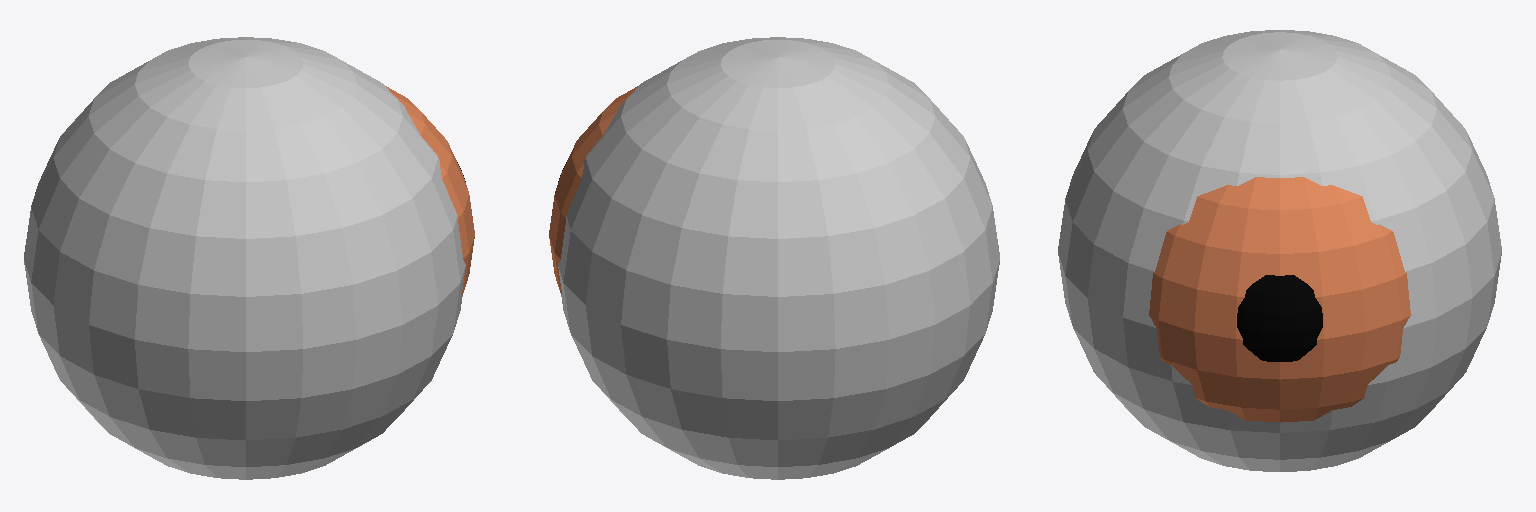
Rendered from Auge.obj.
3 renders of one model, left to right at view 1: azimuth 30°, elevation 25°; view 2: azimuth 150°, elevation 25°; view 3: azimuth 270°, elevation 25°, orthographic.
Parts seen in each view (by area): view 1: Kugel, Kugel.1; view 2: Kugel, Kugel.1; view 3: Kugel, Kugel.1, Kugel.2.
Part boxes in pixels (bbox=[...]): Kugel: bbox=[24, 37, 465, 479]; Kugel.1: bbox=[386, 86, 474, 294]; Kugel: bbox=[558, 37, 999, 479]; Kugel.1: bbox=[549, 86, 637, 294]; Kugel: bbox=[1058, 30, 1501, 471]; Kugel.1: bbox=[1149, 177, 1410, 422]; Kugel.2: bbox=[1237, 275, 1322, 361].
Size of the model in its own units: 211 by 200 by 200.